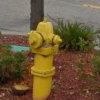Hydrant: (20, 18, 63, 100)
